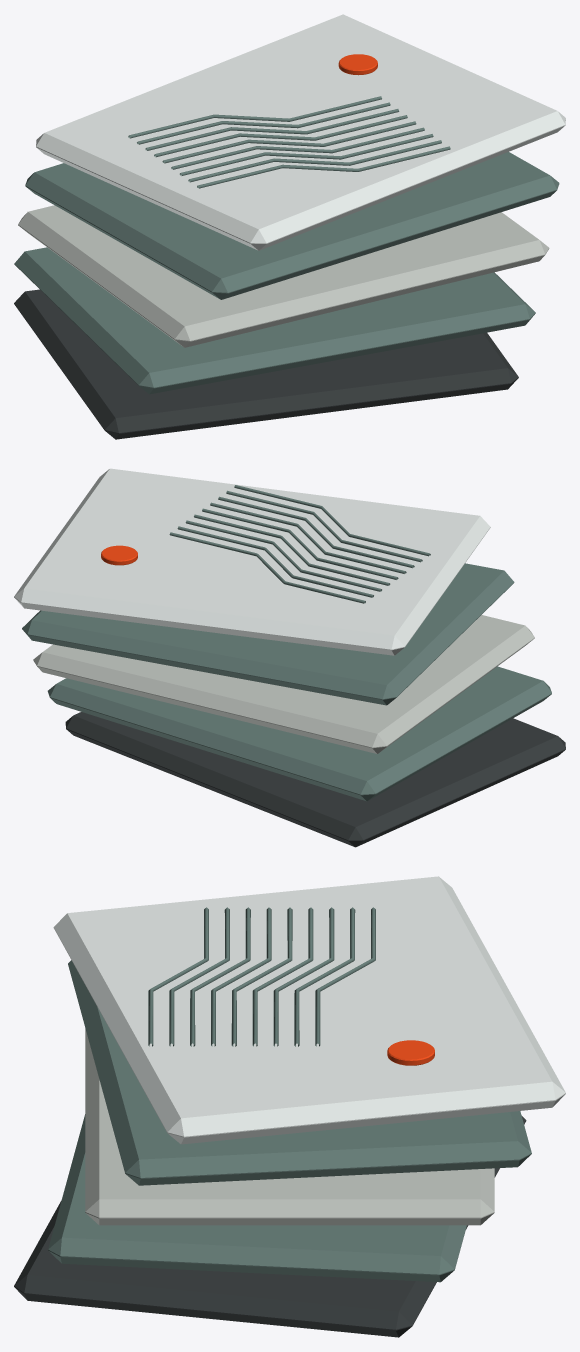
Rendered from mnemosyne.glb.
3 views of the same model, one above another, from view 1: azimuth 30°, elevation 25°; view 2: azimuth 150°, elevation 25°; view 3: azimuth 270°, elevation 25° (orthographic). The views are drawn at different scales.
Visible parts, largest first — view 1: Plate05, Plate02, Plate03, Plate01, Plate04; view 2: Plate05, Plate02, Plate03, Plate04, Plate01; view 3: Plate05, Plate04, Plate03, Plate02, Plate01.
Boxes of the visible parts, box(x1,y1,x2,y2) form: Plate05: box(36, 14, 565, 250); Plate02: box(14, 247, 535, 394); Plate03: box(18, 205, 549, 347); Plate01: box(14, 289, 518, 439); Plate04: box(25, 152, 559, 299); Plate05: box(14, 468, 490, 655); Plate02: box(47, 666, 551, 801); Plate03: box(33, 615, 534, 753); Plate04: box(22, 563, 514, 705); Plate01: box(65, 712, 565, 847); Plate05: box(53, 876, 565, 1144); Plate04: box(68, 960, 531, 1185); Plate03: box(85, 1028, 494, 1225); Plate02: box(48, 1114, 466, 1282); Plate01: box(14, 1116, 526, 1337).
Size of the model in its own units: 3.38 by 1.42 by 2.78.
